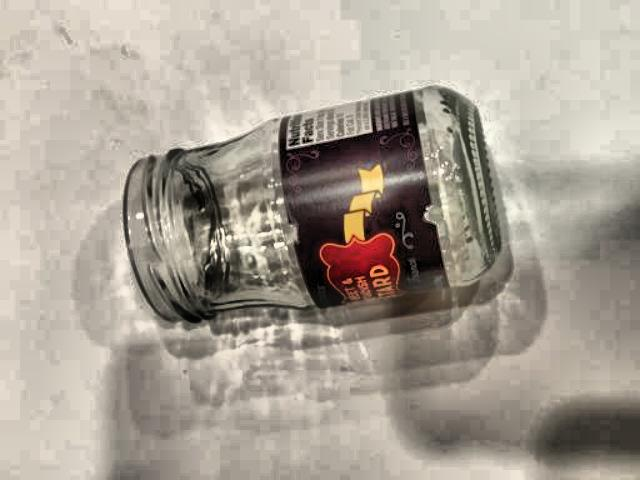Almennt: (105, 60, 510, 358)
